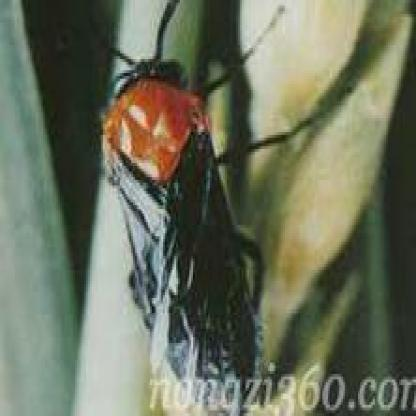sawfly: (88, 0, 341, 416)
